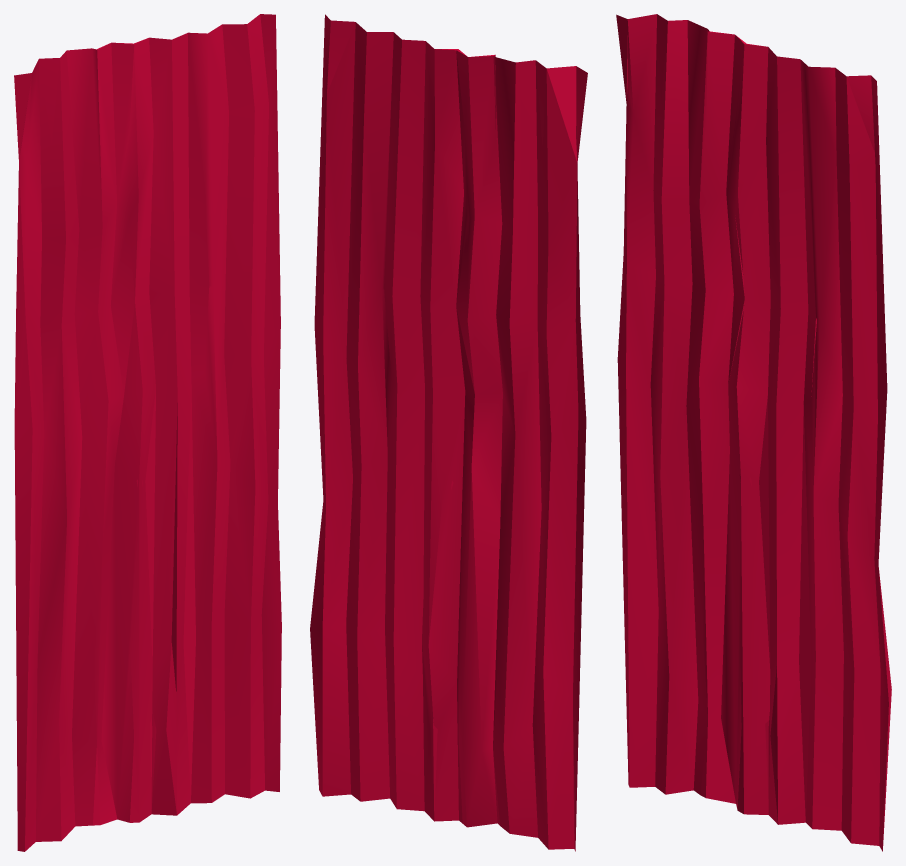
The model's file is panel6-lod1.fbx.
3 renders of one model, left to right at view 1: azimuth 30°, elevation 25°; view 2: azimuth 150°, elevation 25°; view 3: azimuth 330°, elevation 25°, orthographic.
Visible parts, largest first — view 1: panel6-lod1; view 2: panel6-lod1; view 3: panel6-lod1.
Boxes of the visible parts, box(x1,y1,x2,y2) form: panel6-lod1: box(14, 14, 281, 851); panel6-lod1: box(310, 14, 587, 851); panel6-lod1: box(616, 14, 891, 851).
Bounding box in the file's own units: 0.5225 × 1.44 × 0.0654.
